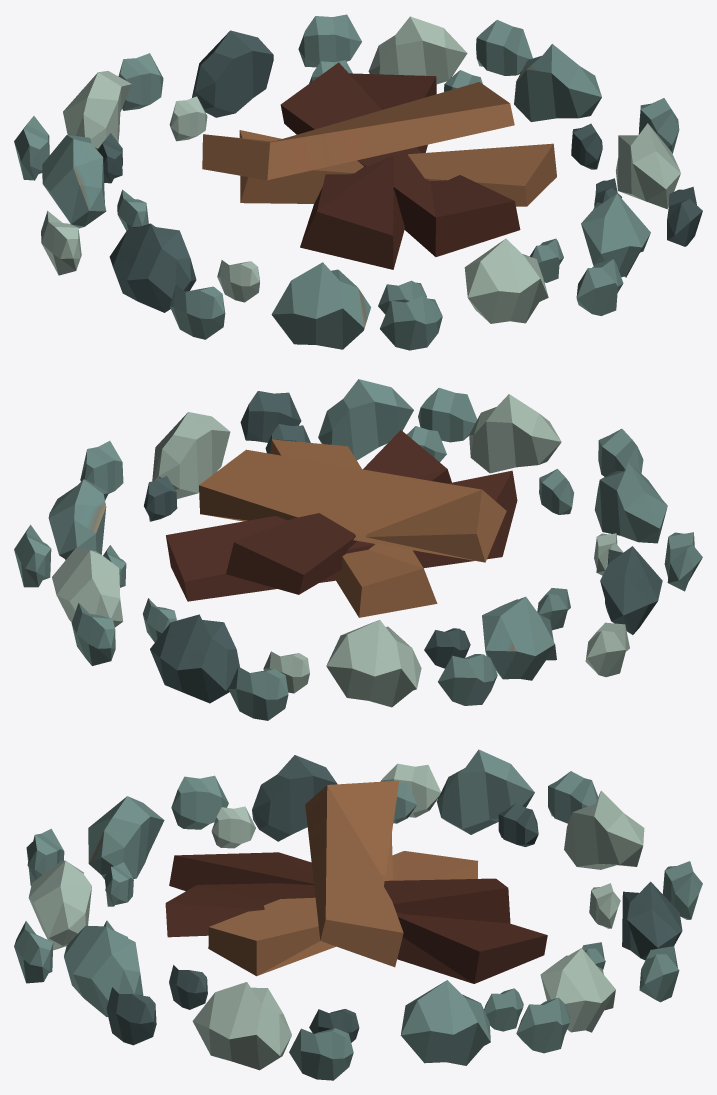
File: SM_L_FalòStones.fbx
3 views of the same model, one above another, from view 1: azimuth 30°, elevation 25°; view 2: azimuth 150°, elevation 25°; view 3: azimuth 270°, elevation 25° (orthographic).
Visible parts, largest first — view 1: SM_L_Falo_Stones; view 2: SM_L_Falo_Stones; view 3: SM_L_Falo_Stones.
Part boxes in pixels (<box>): SM_L_Falo_Stones: <box>14,14,702,350</box>; SM_L_Falo_Stones: <box>14,379,702,720</box>; SM_L_Falo_Stones: <box>14,749,702,1080</box>.
Size of the model in its own units: 1.08 by 0.2136 by 1.09.
